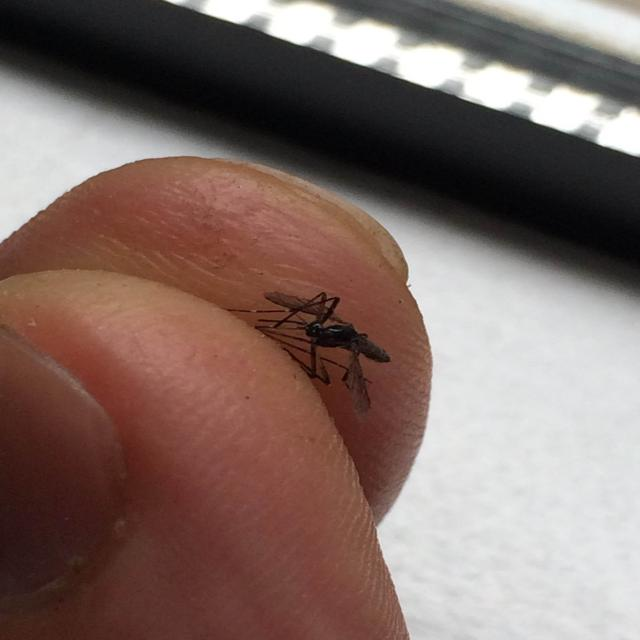albopictus: (228, 281, 396, 397)
